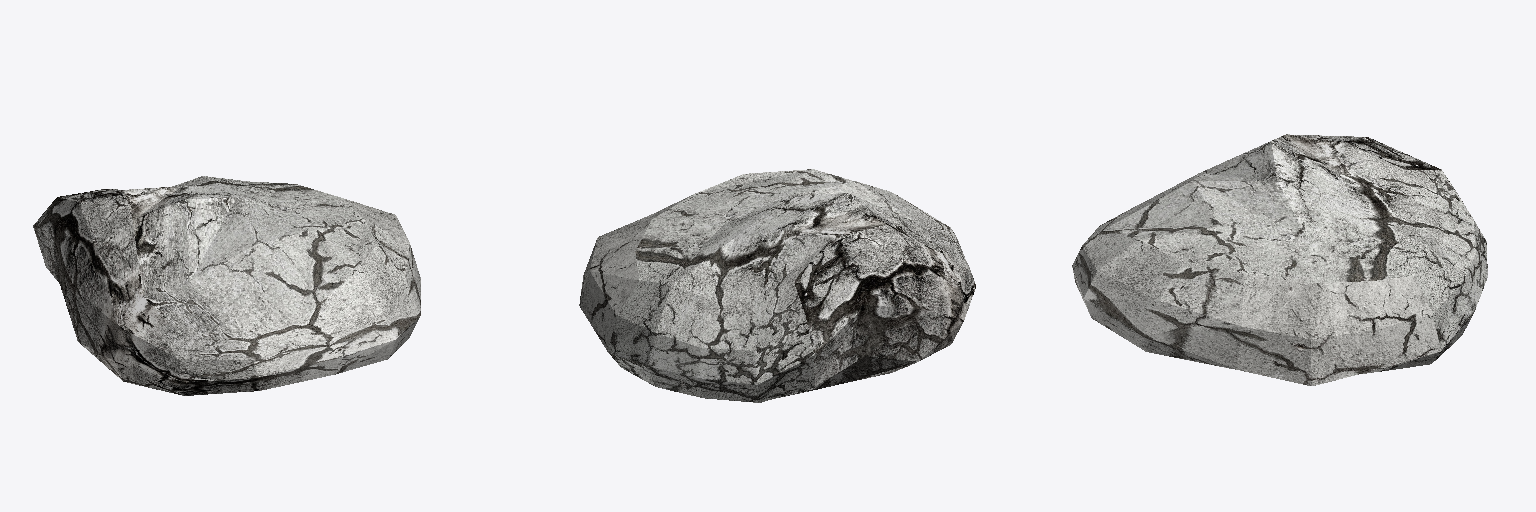
3 views of the same model, side by side, from view 1: azimuth 30°, elevation 25°; view 2: azimuth 150°, elevation 25°; view 3: azimuth 270°, elevation 25° (orthographic).
Visible parts, largest first — view 1: rock; view 2: rock; view 3: rock.
Part boxes in pixels (x1,y1,x2,y2): rock: (33, 176, 420, 395); rock: (579, 169, 975, 402); rock: (1072, 134, 1487, 385).
Bounding box in the file's own units: 83 × 36.78 × 88.7.
Materials: 1 (1 with a texture image).